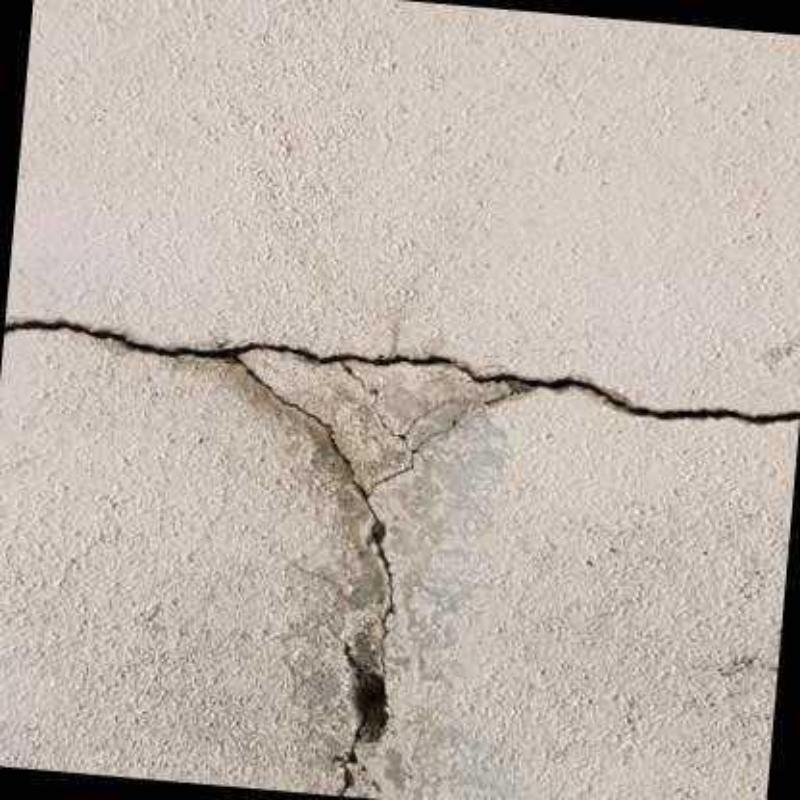crack: (4, 318, 798, 797), (340, 362, 535, 488), (392, 325, 400, 352)
